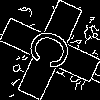C: (25, 25, 83, 78)
